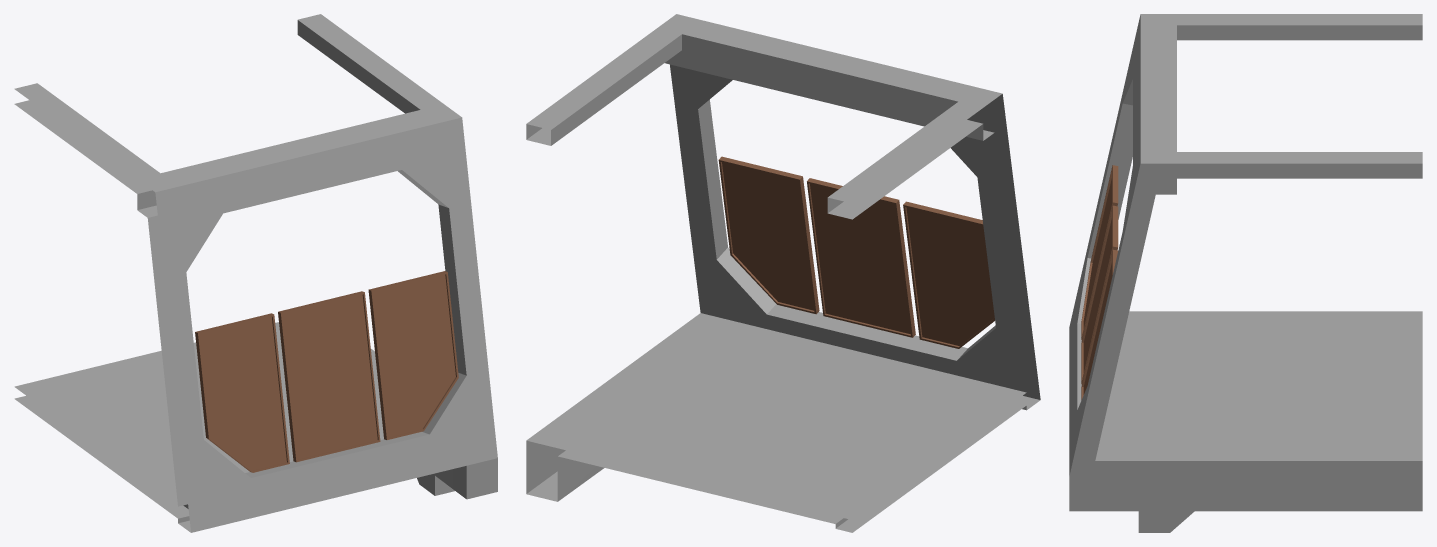
File: S5_Bridge_End.fbx
3 renders of one model, left to right at view 1: azimuth 30°, elevation 25°; view 2: azimuth 150°, elevation 25°; view 3: azimuth 270°, elevation 25°, orthographic. The views are drawn at different scales.
Visible parts, largest first — view 1: S5_Bridge_End; view 2: S5_Bridge_End; view 3: S5_Bridge_End.
Boxes of the visible parts, <box> form: S5_Bridge_End: <box>14,14,497,532</box>; S5_Bridge_End: <box>526,14,1040,532</box>; S5_Bridge_End: <box>1069,14,1422,532</box>.
Bounding box in the file's own units: 30 × 34.67 × 29.98.
